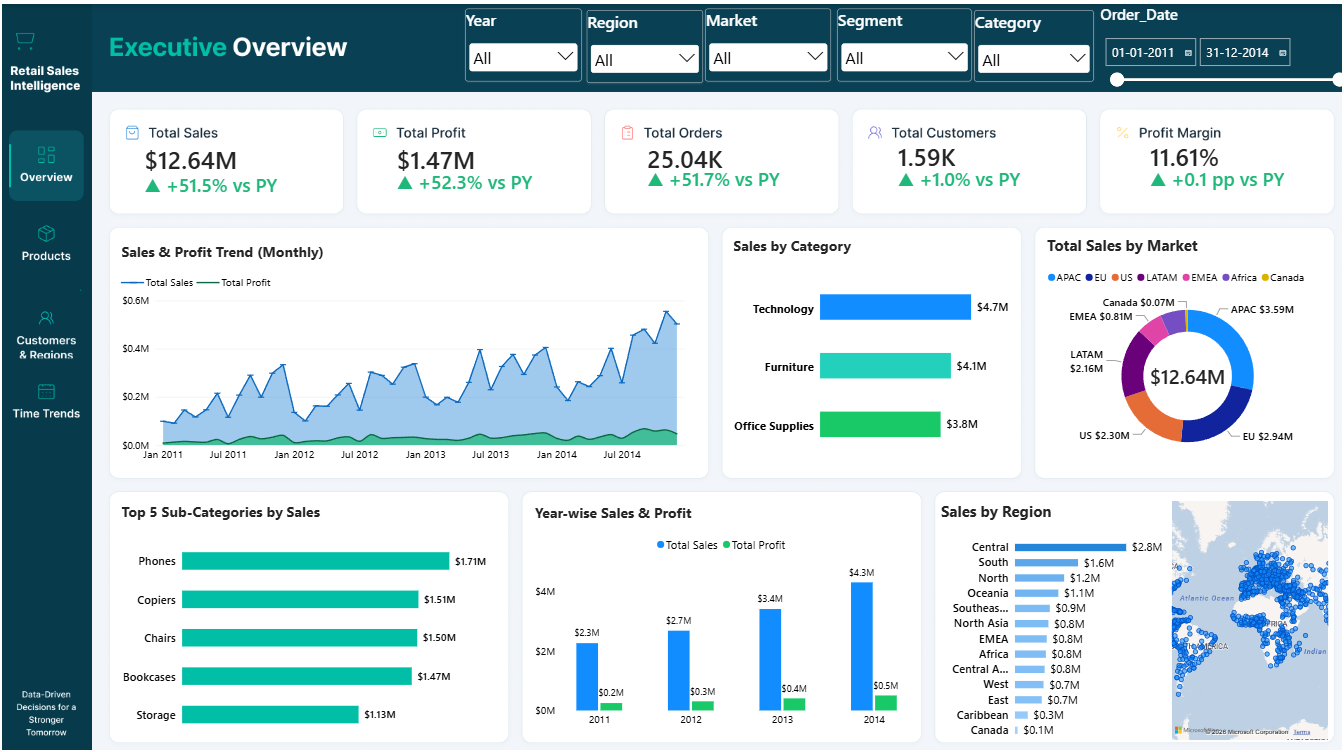

This screenshot's page, from the dashboard's own definition file:
{"tool":"powerbi","page":{"name":"Page 1","canvas":[1920,1080],"ordinal":0},"visuals":[{"type":"slicer","title":"Region","fields":{"Values":["clean_global_superstore.Region"]},"box":[832.1,7.8,164.9,103.7],"z":0,"group":"g7"},{"type":"cardVisual","fields":{"Data":["clean_global_superstore.Total Sales"]},"box":[187.9,179.6,181.4,80.1],"z":0,"group":"g2"},{"type":"areaChart","title":"Sales & Profit Trend (Monthly)","fields":{"Category":["Calendar.Date.Variation.Date Hierarchy.Year","Calendar.Date.Variation.Date Hierarchy.Month"],"Y":["clean_global_superstore.Total Sales","clean_global_superstore.Total Profit"]},"box":[155.5,322.8,848.3,348.7],"z":0},{"type":"slicer","title":"Year","fields":{"Values":["Calendar.Year"]},"box":[660.1,5.5,164.9,103.7],"z":1000,"group":"g7"},{"type":"cardVisual","fields":{"Data":["clean_global_superstore.Total Profit"]},"box":[545.7,178.9,160.2,77.8],"z":1000,"group":"g3"},{"type":"clusteredBarChart","title":"Sales by Category","fields":{"Category":["clean_global_superstore.Category"],"Y":["clean_global_superstore.Total Sales"]},"box":[1025,315.7,426.5,355.8],"z":1000},{"type":"slicer","title":"Market","fields":{"Values":["clean_global_superstore.Market"]},"box":[1001.8,5.5,179.1,103.7],"z":2000,"group":"g7"},{"type":"cardVisual","fields":{"Data":["clean_global_superstore.Total Orders"]},"box":[902.2,176.6,160.2,77.8],"z":2000,"group":"g4"},{"type":"group","id":"g1","title":"Group 1","box":[1319.5,692.8,582,369.9],"z":2000},{"type":"slicer","title":"Segment","fields":{"Values":["clean_global_superstore.Segment"]},"box":[1187.9,5.5,190.9,103.7],"z":3000,"group":"g7"},{"type":"cardVisual","fields":{"Data":["clean_global_superstore.Total Customers"]},"box":[1259.5,174.2,160.2,77.8],"z":3000,"group":"g5"},{"type":"group","id":"g2","title":"Group 2","box":[187.9,179.6,253.5,102.7],"z":3000},{"type":"cardVisual","fields":{"Data":["clean_global_superstore.Profit Margin"]},"box":[1616.2,174.2,160.2,77.8],"z":4000,"group":"g6"},{"type":"group","id":"g3","title":"Group 3","box":[545.5,178.9,252.5,100.5],"z":4000},{"type":"group","id":"g4","title":"Group 4","box":[902.2,176.6,253.2,97.8],"z":5000},{"type":"cardVisual","fields":{"Data":["KPI Selector.KPI Growth Label"]},"box":[188.9,220.1,252.5,62.5],"z":5000,"group":"g2"},{"type":"group","id":"g5","title":"Group 5","box":[1259.5,174.2,252.6,100.2],"z":6000},{"type":"cardVisual","fields":{"Data":["KPI Selector.KPI Growth Label"]},"box":[1617.1,211.9,252.5,62.5],"z":6000,"group":"g6"},{"type":"group","id":"g6","title":"Group 6","box":[1616.2,174.2,253.4,100.2],"z":7000},{"type":"cardVisual","fields":{"Data":["KPI Selector.KPI Growth Label"]},"box":[1259.6,211.9,252.5,62.5],"z":7000,"group":"g5"},{"type":"cardVisual","fields":{"Data":["KPI Selector.KPI Growth Label"]},"box":[545.5,216.9,252.5,62.5],"z":8000,"group":"g3"},{"type":"clusteredBarChart","title":"Top 5 Sub-Categories by Sales","fields":{"Category":["clean_global_superstore.Sub-Category"],"Y":["clean_global_superstore.Total Sales"]},"box":[155.5,692.8,563.1,369.9],"z":8000},{"type":"cardVisual","fields":{"Data":["KPI Selector.KPI Growth Label"]},"box":[902.9,211.9,252.5,62.5],"z":9000,"group":"g4"},{"type":"donutChart","fields":{"Category":["clean_global_superstore.Market"],"Y":["clean_global_superstore.Total Sales"]},"box":[1470.3,315.7,431.2,355.8],"z":9000},{"type":"clusteredColumnChart","title":"Year-wise Sales & Profit","fields":{"Category":["Calendar.Year"],"Y":["clean_global_superstore.Total Sales","clean_global_superstore.Total Profit"]},"box":[742.2,695.1,565.5,353.4],"z":10000},{"type":"shape","box":[0,294.5,129.6,98.9],"z":11000},{"type":"shape","box":[0,419.4,129.6,98.9],"z":12000},{"type":"map","fields":{"Category":["clean_global_superstore.State"]},"box":[1646.9,692.8,254.6,369.9],"z":12000,"group":"g1"},{"type":"shape","box":[0,523.1,129.6,98.9],"z":13000},{"type":"slicer","title":"Order_Date","fields":{"Values":["clean_global_superstore.Order_Date"]},"box":[1562.2,0,355.8,122.5],"z":14000},{"type":"slicer","title":"Category","fields":{"Values":["clean_global_superstore.Category"]},"box":[1383.5,7.8,169.6,101.4],"z":15000,"group":"g7"},{"type":"group","id":"g7","title":"Group 7","box":[660.1,5.5,893,106],"z":15001},{"type":"clusteredBarChart","title":"Sales by Region","fields":{"Category":["clean_global_superstore.Region"],"Y":["clean_global_superstore.Total Sales"]},"box":[1319.5,692.8,347,369.9],"z":15500,"group":"g1"}]}

Visuals, with their boxes on the page's 1920x1080 design canvas (x1, y1, x2, y2). These are canvas units, not pixel positions in the 1344x752 screenshot, which may show the page scaled, cropped or inside an application window:
"Region" slicer: [x1=832, y1=8, x2=997, y2=112]
cardVisual - clean_global_superstore.Total Sales: [x1=188, y1=180, x2=369, y2=260]
"Sales & Profit Trend (Monthly)" areaChart: [x1=156, y1=323, x2=1004, y2=672]
"Year" slicer: [x1=660, y1=6, x2=825, y2=109]
cardVisual - clean_global_superstore.Total Profit: [x1=546, y1=179, x2=706, y2=257]
"Sales by Category" clusteredBarChart: [x1=1025, y1=316, x2=1452, y2=672]
"Market" slicer: [x1=1002, y1=6, x2=1181, y2=109]
cardVisual - clean_global_superstore.Total Orders: [x1=902, y1=177, x2=1062, y2=254]
"Group 1" group: [x1=1320, y1=693, x2=1902, y2=1063]
"Segment" slicer: [x1=1188, y1=6, x2=1379, y2=109]
cardVisual - clean_global_superstore.Total Customers: [x1=1260, y1=174, x2=1420, y2=252]
"Group 2" group: [x1=188, y1=180, x2=441, y2=282]
cardVisual - clean_global_superstore.Profit Margin: [x1=1616, y1=174, x2=1776, y2=252]
"Group 3" group: [x1=546, y1=179, x2=798, y2=279]
"Group 4" group: [x1=902, y1=177, x2=1155, y2=274]
cardVisual - KPI Selector.KPI Growth Label: [x1=189, y1=220, x2=441, y2=283]
"Group 5" group: [x1=1260, y1=174, x2=1512, y2=274]
cardVisual - KPI Selector.KPI Growth Label: [x1=1617, y1=212, x2=1870, y2=274]
"Group 6" group: [x1=1616, y1=174, x2=1870, y2=274]
cardVisual - KPI Selector.KPI Growth Label: [x1=1260, y1=212, x2=1512, y2=274]
cardVisual - KPI Selector.KPI Growth Label: [x1=546, y1=217, x2=798, y2=279]
"Top 5 Sub-Categories by Sales" clusteredBarChart: [x1=156, y1=693, x2=719, y2=1063]
cardVisual - KPI Selector.KPI Growth Label: [x1=903, y1=212, x2=1155, y2=274]
donutChart - clean_global_superstore.Market x clean_global_superstore.Total Sales: [x1=1470, y1=316, x2=1902, y2=672]
"Year-wise Sales & Profit" clusteredColumnChart: [x1=742, y1=695, x2=1308, y2=1048]
shape: [x1=0, y1=294, x2=130, y2=393]
shape: [x1=0, y1=419, x2=130, y2=518]
map - clean_global_superstore.State: [x1=1647, y1=693, x2=1902, y2=1063]
shape: [x1=0, y1=523, x2=130, y2=622]
"Order_Date" slicer: [x1=1562, y1=0, x2=1918, y2=122]
"Category" slicer: [x1=1384, y1=8, x2=1553, y2=109]
"Group 7" group: [x1=660, y1=6, x2=1553, y2=112]
"Sales by Region" clusteredBarChart: [x1=1320, y1=693, x2=1666, y2=1063]
